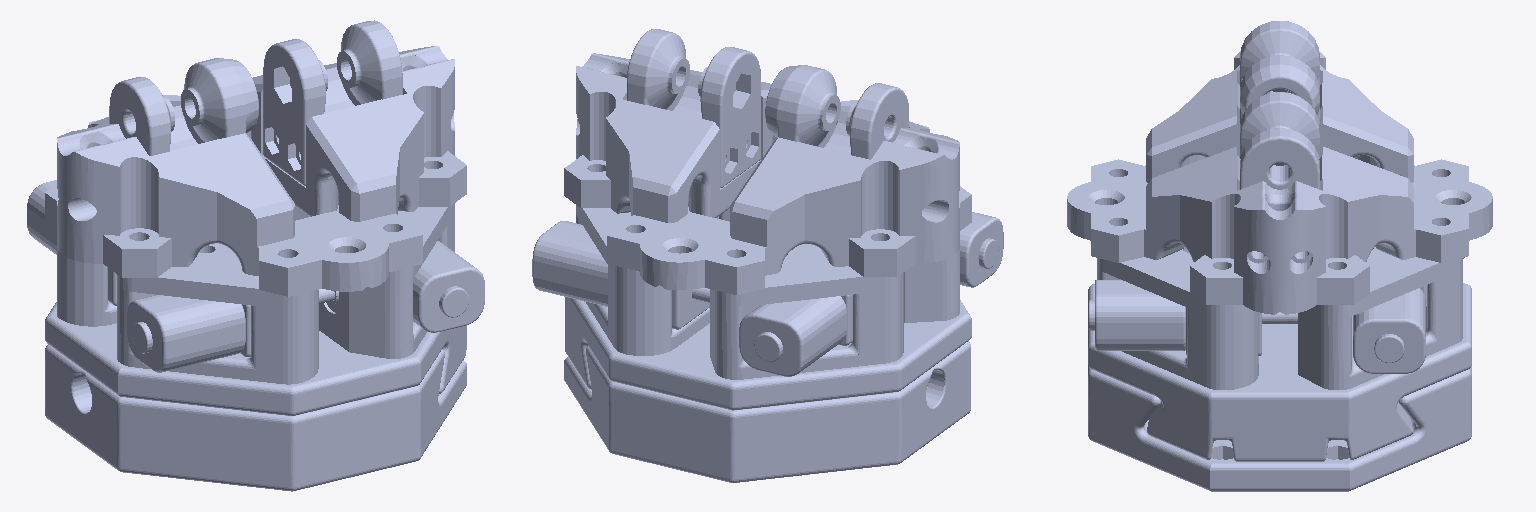
robot.urdf — gummi:
<?xml version="1.0" ?>
<robot name="gummi">
	<link name="base_link"/>
	<joint name="set_worldaxis" type="fixed">
		<origin rpy="1.570796326795 0 0" xyz="0.0 0.0 0.0"/>
		<parent link="base_link"/>
		<child link="base"/>
		<axis xyz="0 0 0"/>
		<limit effort="0" lower="-1" upper="1" velocity="0"/>
	</joint>
	<link name="base">
		<inertial>
			<origin rpy="0.0 0.0 0.0" xyz="0.0 0.0 0.0"/>
			<mass value="0.01"/>
			<inertia ixx="0.0004" ixy="0.0004" ixz="0.0004" iyy="0.0004" iyz="0.0004" izz="0.0004"/>
		</inertial>
		<visual>
			<origin rpy="0.0 0.0 0.0" xyz="0.0 0.0 0.0"/>
			<geometry>
				<mesh filename="package://mypackage/meshes/base.stl"/>
			</geometry>
			<material name="">
				<color rgba="0.792156862745098 0.819607843137255 0.933333333333333 1"/>
			</material>
		</visual>
		<collision>
			<origin rpy="0.0 0.0 0.0" xyz="0.0 0.0 0.0"/>
			<geometry>
				<mesh filename="package://mypackage/meshes/base.stl"/>
			</geometry>
		</collision>
	</link>
	<link name="link1">
		<inertial>
			<origin rpy="0.0 0.0 0.0" xyz="0.0 0.0 0.0"/>
			<mass value="0.01"/>
			<inertia ixx="0.0004" ixy="0.0004" ixz="0.0004" iyy="0.0004" iyz="0.0004" izz="0.0004"/>
		</inertial>
		<visual>
			<origin rpy="0.0 0.0 0.0" xyz="0.0 0.0 0.0"/>
			<geometry>
				<mesh filename="package://mypackage/meshes/link1.stl"/>
			</geometry>
			<material name="">
				<color rgba="0.792156862745098 0.819607843137255 0.933333333333333 1"/>
			</material>
		</visual>
		<collision>
			<origin rpy="0.0 0.0 0.0" xyz="0.0 0.0 0.0"/>
			<geometry>
				<mesh filename="package://mypackage/meshes/link1.stl"/>
			</geometry>
		</collision>
	</link>
	<link name="link2">
		<inertial>
			<origin rpy="0.0 0.0 0.0" xyz="0.0 0.0 0.0"/>
			<mass value="0.01"/>
			<inertia ixx="0.0004" ixy="0.0004" ixz="0.0004" iyy="0.0004" iyz="0.0004" izz="0.0004"/>
		</inertial>
		<visual>
			<origin rpy="0.0 0.0 0.0" xyz="0.0 0.0 0.0"/>
			<geometry>
				<mesh filename="package://mypackage/meshes/link2.stl"/>
			</geometry>
			<material name="">
				<color rgba="0.792156862745098 0.819607843137255 0.933333333333333 1"/>
			</material>
		</visual>
		<collision>
			<origin rpy="0.0 0.0 0.0" xyz="0.0 0.0 0.0"/>
			<geometry>
				<mesh filename="package://mypackage/meshes/link2.stl"/>
			</geometry>
		</collision>
	</link>
	<joint name="joint0" type="revolute">
		<origin rpy="0.0 0.0 0.0" xyz="0.04316036512320408 0.04848245206563817 0.027454509104734993"/>
		<parent link="base"/>
		<child link="link1"/>
		<axis xyz="-1.0000000000000036 8.979975634925549e-16 3.609607530446545e-15"/>
		<limit effort="0" lower="-0.7853981633974483" upper="0.7853981633974483" velocity="0"/>
	</joint>
	<joint name="joint1" type="revolute">
		<origin rpy="0.0 0.0 0.0" xyz="-0.016550000000000054 0.040054000000004225 -0.01210000000000057"/>
		<parent link="link1"/>
		<child link="link2"/>
		<axis xyz="5.267338778969267e-15 -5.467848396278865e-15 1.0000000000000524"/>
		<limit effort="0" lower="-0.7853981633974483" upper="0.7853981633974483" velocity="0"/>
	</joint>

<!-- Dummy joint transmission parameters for Gazebo sim (assumes motor directly coupled to joint with 0 reduction) -->
	<transmission name="tran1">
		<type>transmission_interface/SimpleTransmission</type>
		<joint name="joint0">
			<hardwareInterface>PositionJointInterface</hardwareInterface>
		</joint>
		<actuator name="motor1">
			<mechanicalReduction>1</mechanicalReduction>
			<hardwareInterface>PositionJointInterface</hardwareInterface>
		</actuator>
	</transmission>
	<transmission name="tran2">
		<type>transmission_interface/SimpleTransmission</type>
		<joint name="joint1">
			<hardwareInterface>PositionJointInterface</hardwareInterface>
		</joint>
		<actuator name="motor2">
			<mechanicalReduction>1</mechanicalReduction>
			<hardwareInterface>PositionJointInterface</hardwareInterface>
		</actuator>
	</transmission>

	<!-- 
		 Gazebo plugins: 

			ros_control
			* Accepts new desired trajectories via follow_joint_trajectory, while joint_state_publisher publishes joint_states.
			* Makes joints move.

			joint_state_publisher
			* Publish current state of each joint to a topic 
	-->
	<gazebo>
			<plugin name="gazebo_ros_control" filename="libgazebo_ros_control.so" />
			<plugin name="joint_state_publisher" filename="libgazebo_ros_joint_state_publisher.so" >
				<jointName>joint0, joint1</jointName>
			</plugin>
	</gazebo>

</robot>

--- Facts derived from the render (not from the file) ---
Views: 3 orthographic renders of the robot side by side, from view 1: azimuth 30°, elevation 25°; view 2: azimuth 150°, elevation 25°; view 3: azimuth 270°, elevation 25°.
Robot: gummi — 4 links, 3 joints (2 revolute, 1 fixed); root link base_link; default pose: every joint at zero.
Visible links, largest first — view 1: base; view 2: base; view 3: base.
Boxes of the visible links, x1,y1,x2,y2 form: base: (27, 20, 484, 491); base: (532, 29, 1003, 482); base: (1067, 21, 1492, 491).
Bounding box of the posed robot: 0.07 × 0.07 × 0.0606 m (x, y, z).
1 mesh visuals loaded from 3 distinct referenced files (1 binary STL); not drawn: 2 (reference not matched to a file when rendering).